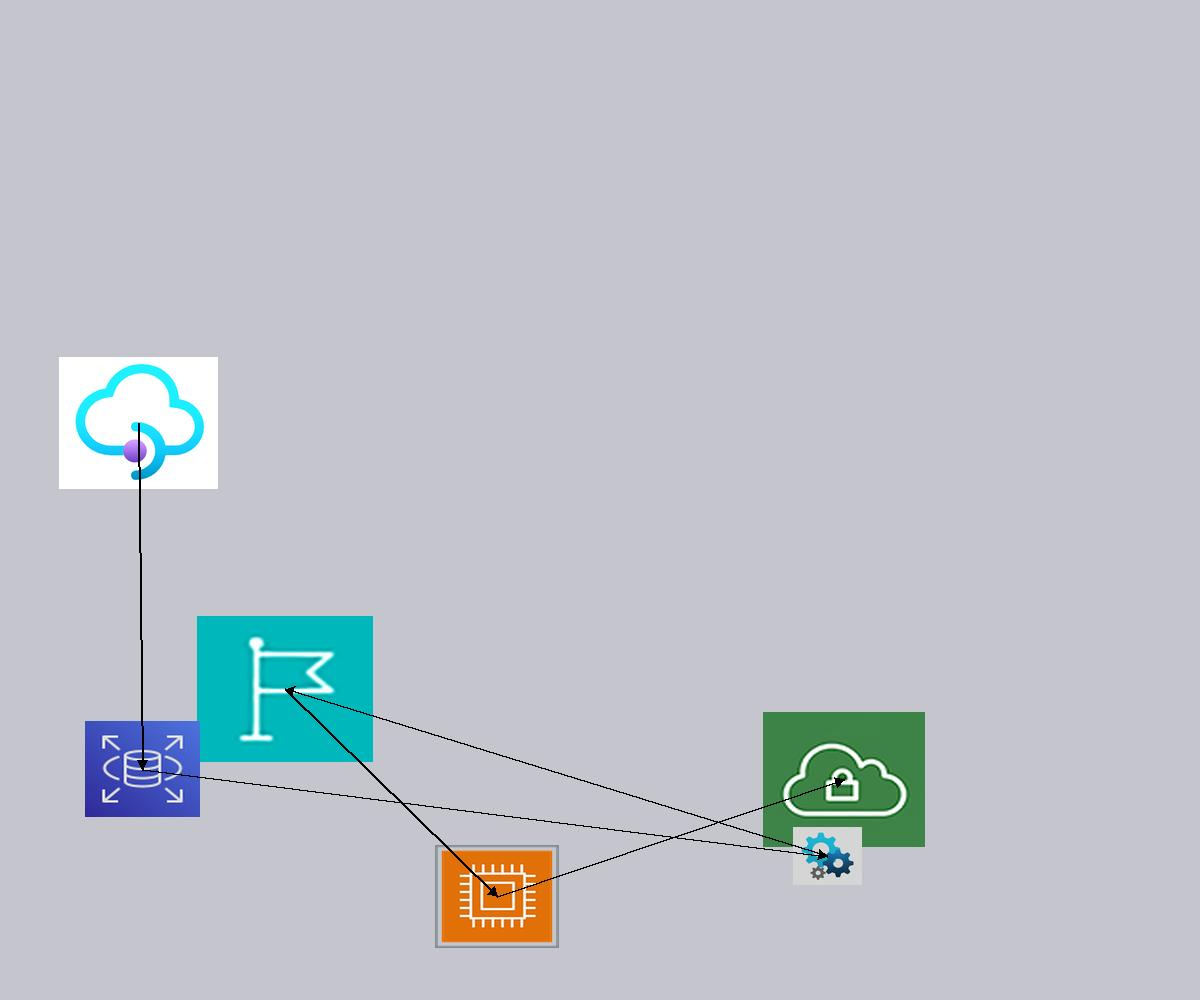AWS-Category_Compute: (435, 845, 559, 948)
AWS-Private_vpc: (763, 712, 925, 847)
AWS-RDS: (85, 721, 200, 817)
AWS-Region: (197, 616, 373, 762)
Azure_api: (793, 827, 862, 885)
Azure_api_gateway: (59, 357, 218, 489)
